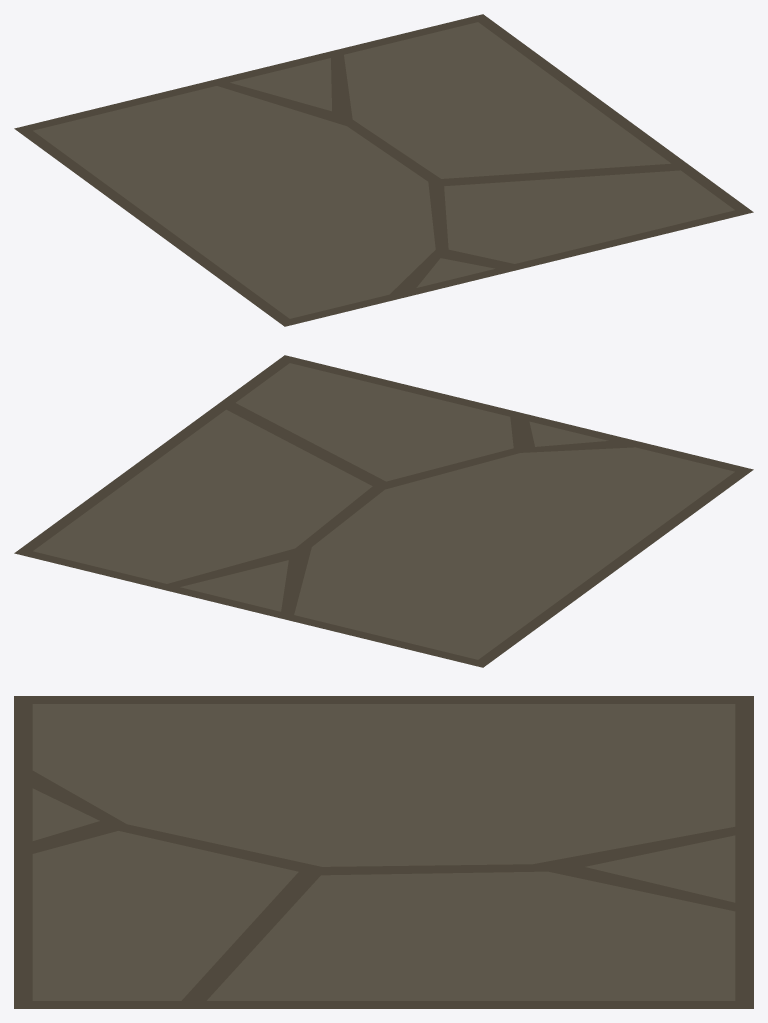
Rendered from SD_Env_Undead_Floor_01.fbx.
3 views of the same model, one above another, from view 1: azimuth 30°, elevation 25°; view 2: azimuth 150°, elevation 25°; view 3: azimuth 270°, elevation 25° (orthographic). The views are drawn at different scales.
Parts seen in each view (by area): view 1: SD_Env_Undead_Floor_01; view 2: SD_Env_Undead_Floor_01; view 3: SD_Env_Undead_Floor_01.
Boxes of the visible parts, x1,y1,x2,y2 form: SD_Env_Undead_Floor_01: (14,14,753,326); SD_Env_Undead_Floor_01: (14,355,753,667); SD_Env_Undead_Floor_01: (14,696,753,1008).
Bounding box in the file's own units: 5 × 0 × 5.
